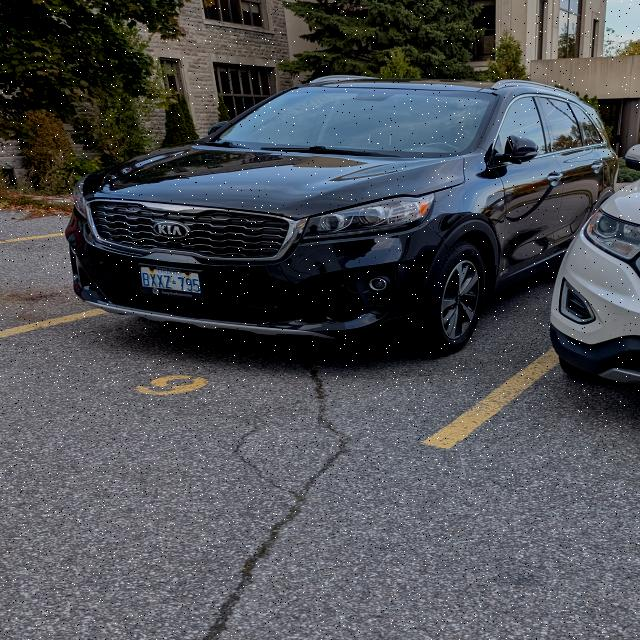plaque: (139, 266, 204, 299)
